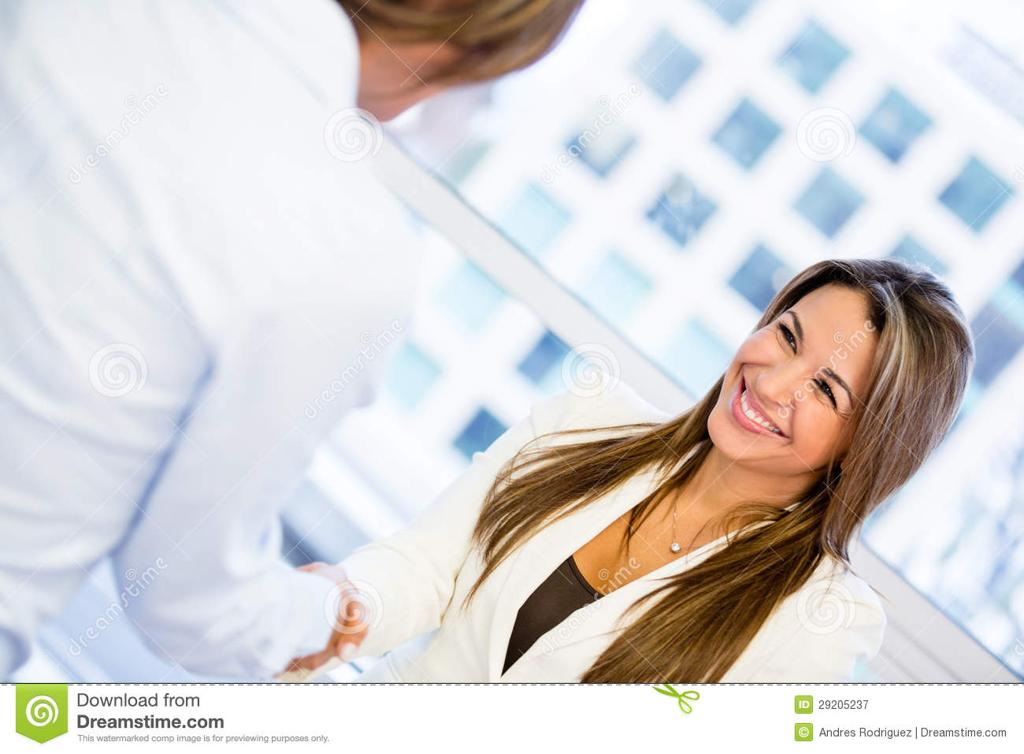face: (708, 288, 866, 460)
